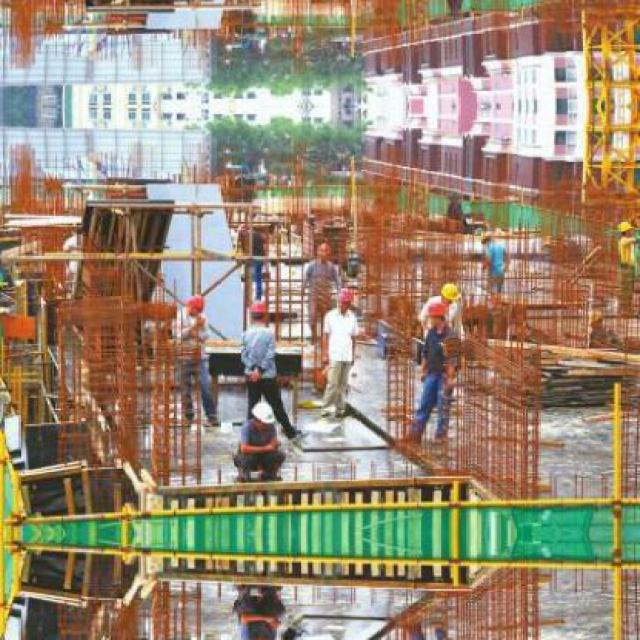helmet: (246, 399, 274, 432), (426, 301, 448, 330), (331, 286, 355, 312), (245, 300, 269, 325), (438, 281, 460, 307), (185, 290, 206, 316), (614, 215, 634, 240)
